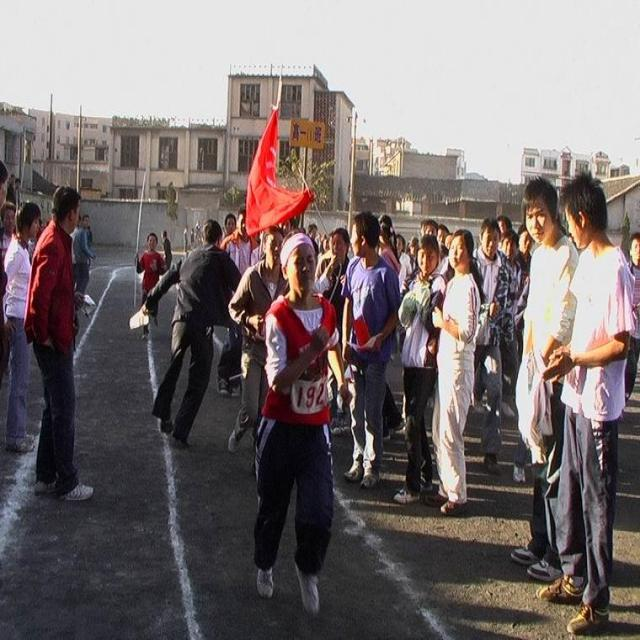non-fight: (537, 172, 639, 626), (246, 232, 338, 616), (28, 183, 93, 502), (153, 214, 239, 448), (342, 215, 402, 488), (435, 226, 482, 509)
